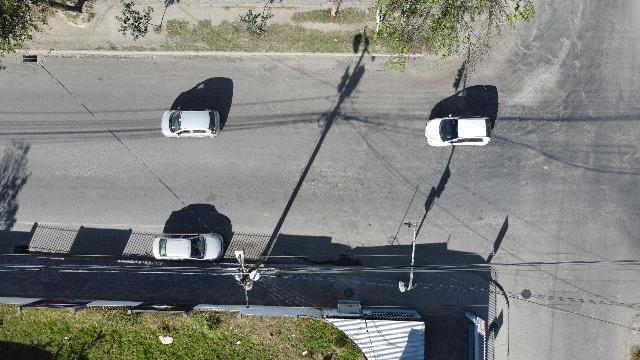Vehiculo: (152, 232, 224, 262), (425, 115, 491, 147), (162, 110, 220, 138)
